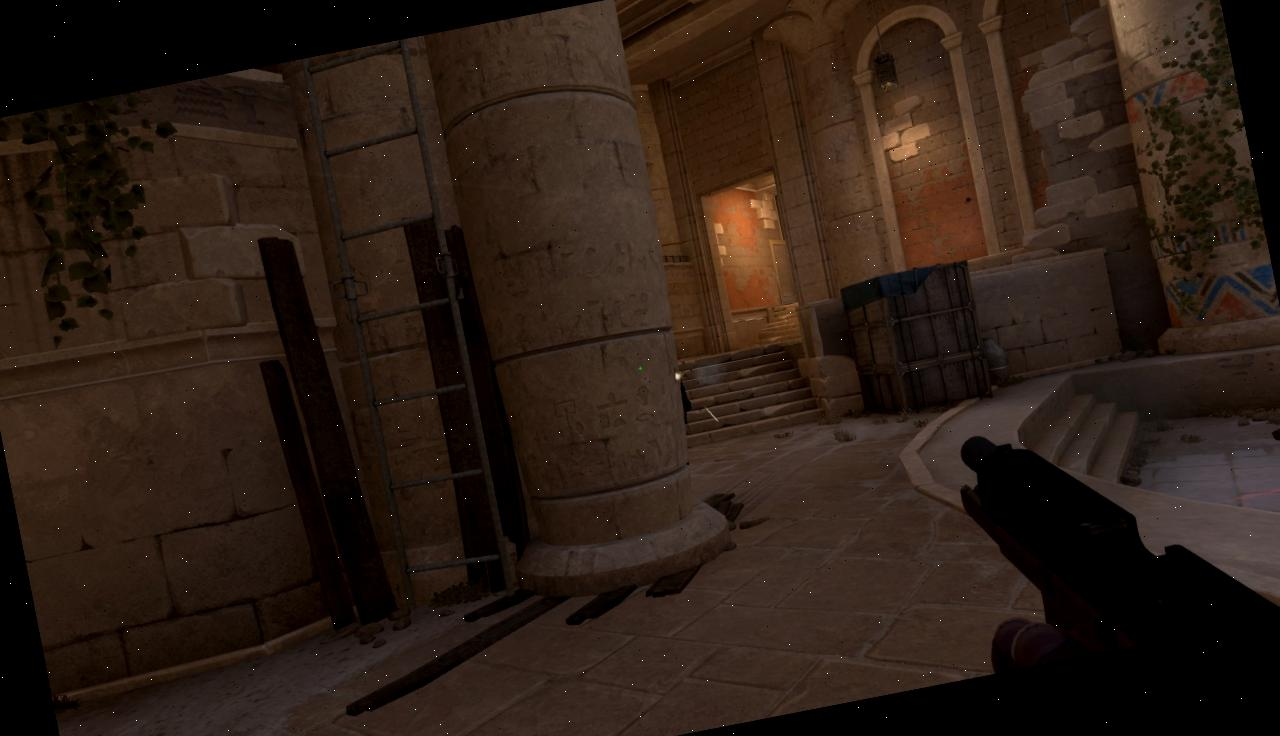pistol: (939, 379, 1280, 675)
